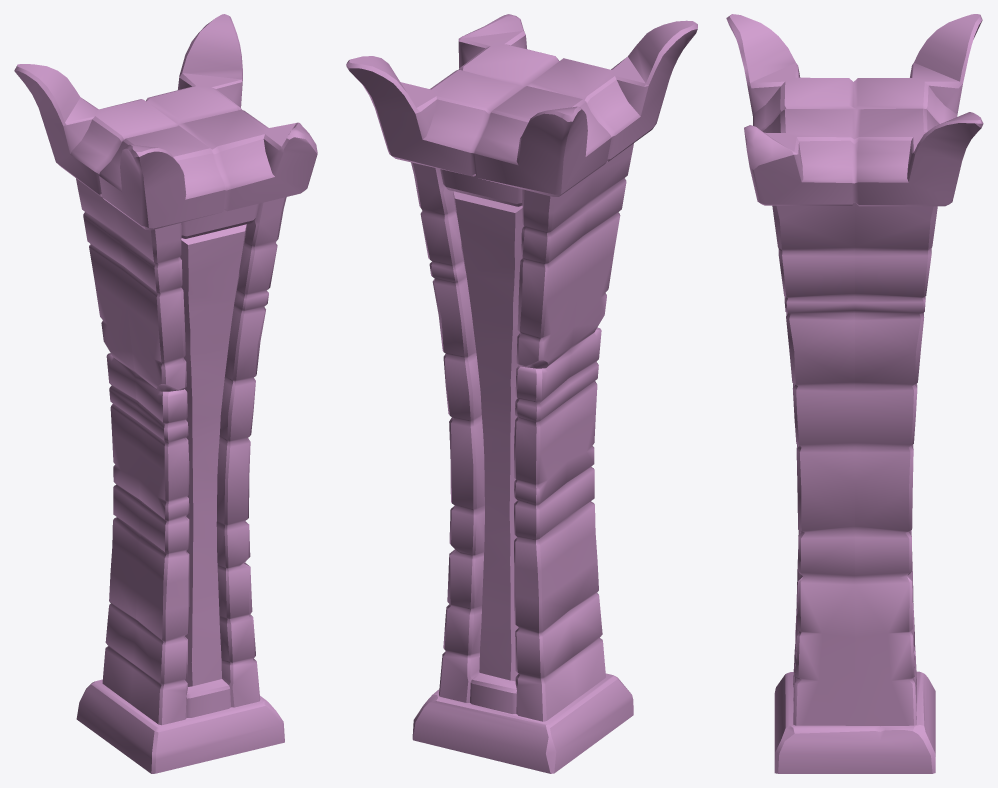
Rendered from SM_Fantasy_obelisk_5.fbx.
3 views of the same model, side by side, from view 1: azimuth 30°, elevation 25°; view 2: azimuth 150°, elevation 25°; view 3: azimuth 270°, elevation 25° (orthographic). The views are drawn at different scales.
Visible parts, largest first — view 1: SM_Fantasy_obelisk_5; view 2: SM_Fantasy_obelisk_5; view 3: SM_Fantasy_obelisk_5.
Part boxes in pixels (<box>): SM_Fantasy_obelisk_5: <box>14,14,317,773</box>; SM_Fantasy_obelisk_5: <box>346,14,697,773</box>; SM_Fantasy_obelisk_5: <box>726,14,983,773</box>.
Size of the model in its own units: 78.7 by 227 by 78.63.
